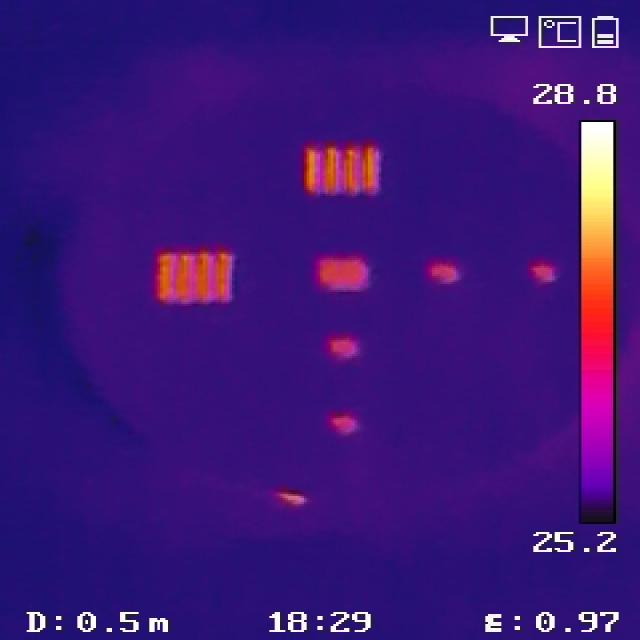Distinguishable 4-bar target: (297, 143, 384, 197)
Indistinguishable 4-bar target: (327, 409, 365, 439), (427, 260, 462, 285), (332, 338, 363, 363), (532, 261, 560, 288)
threshold 4-bar target: (158, 250, 238, 306), (309, 253, 375, 294)
